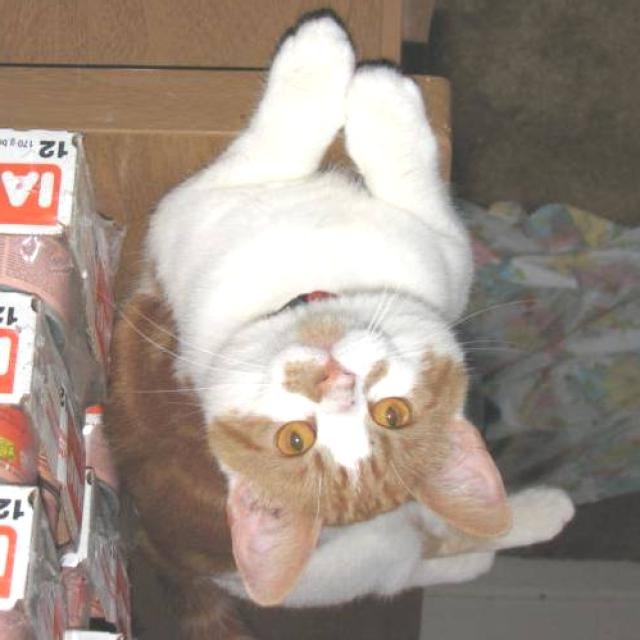Kucing: (97, 27, 548, 590)
